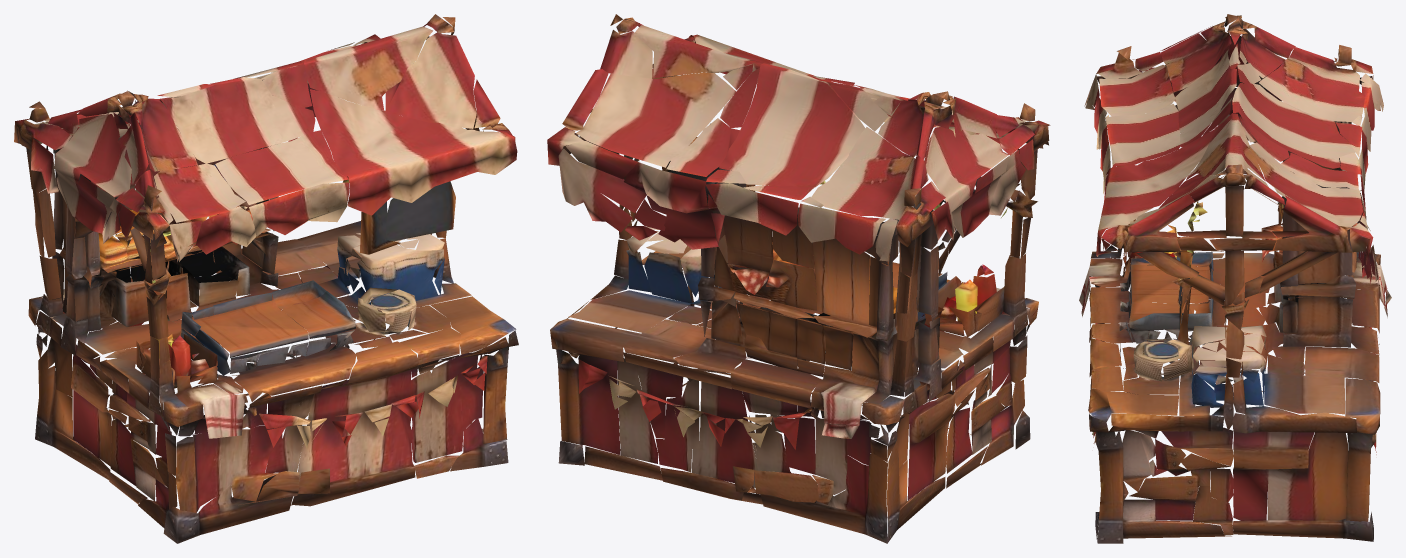
The model's file is foodstall.glb.
3 renders of one model, left to right at view 1: azimuth 30°, elevation 25°; view 2: azimuth 150°, elevation 25°; view 3: azimuth 270°, elevation 25°, orthographic. The views are drawn at different scales.
Parts seen in each view (by area): view 1: tripo_node_939dfd54-2db3-41fa-b20e-6197d1c97839; view 2: tripo_node_939dfd54-2db3-41fa-b20e-6197d1c97839; view 3: tripo_node_939dfd54-2db3-41fa-b20e-6197d1c97839.
Boxes of the visible parts, x1,y1,x2,y2 form: tripo_node_939dfd54-2db3-41fa-b20e-6197d1c97839: [14, 14, 518, 543]; tripo_node_939dfd54-2db3-41fa-b20e-6197d1c97839: [547, 14, 1050, 543]; tripo_node_939dfd54-2db3-41fa-b20e-6197d1c97839: [1079, 14, 1391, 543].
Bounding box in the file's own units: 1.48 × 1.5 × 1.12.
1 material, 1 textured.
